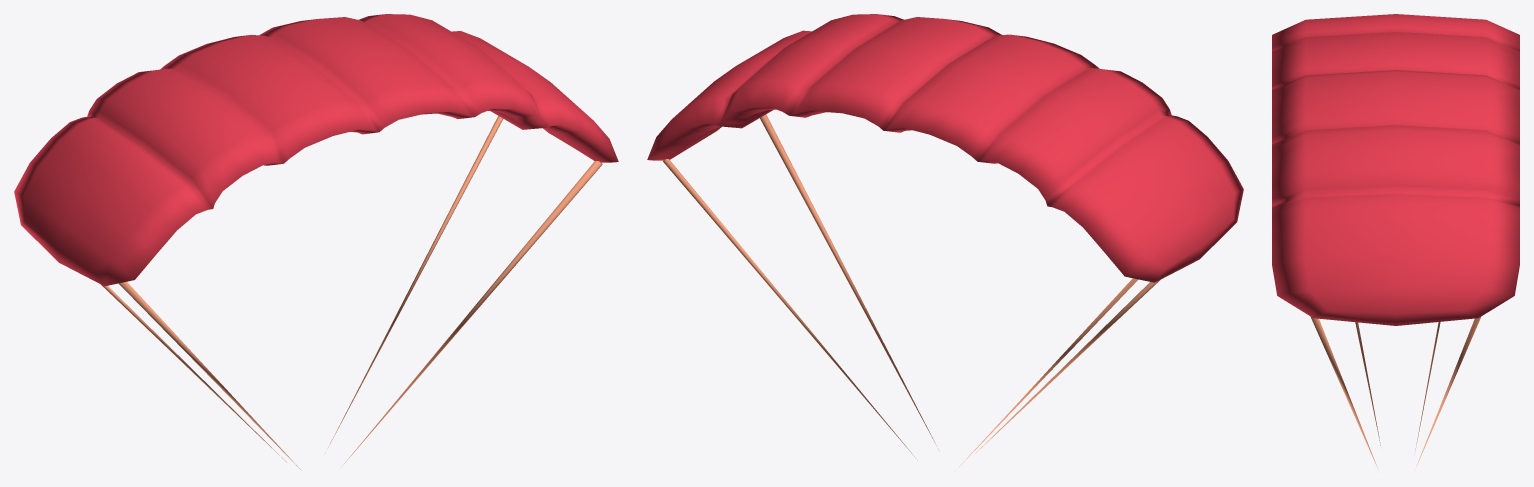
The model's file is parachute.glb.
3 renders of one model, left to right at view 1: azimuth 30°, elevation 25°; view 2: azimuth 150°, elevation 25°; view 3: azimuth 270°, elevation 25°, orthographic.
Parts seen in each view (by area): view 1: Cube, Cone.003, Cone.002, Cone.001, Cone; view 2: Cube, Cone.003, Cone.002, Cone.001, Cone; view 3: Cube, Cone.003, Cone.002, Cone.001.
Part boxes in pixels (<box>): Cube: <box>14,14,618,286</box>; Cone.003: <box>341,161,602,467</box>; Cone.002: <box>325,116,502,452</box>; Cone.001: <box>118,281,301,470</box>; Cone: <box>101,284,286,462</box>; Cube: <box>647,14,1243,282</box>; Cone.003: <box>760,114,938,449</box>; Cone.002: <box>663,159,917,460</box>; Cone.001: <box>975,280,1159,453</box>; Cone: <box>955,278,1138,470</box>; Cube: <box>1272,14,1519,325</box>; Cone.003: <box>1310,316,1378,470</box>; Cone.002: <box>1415,316,1481,469</box>; Cone.001: <box>1355,322,1380,445</box>.
Size of the model in its own units: 1.53 by 1.15 by 0.6424.
